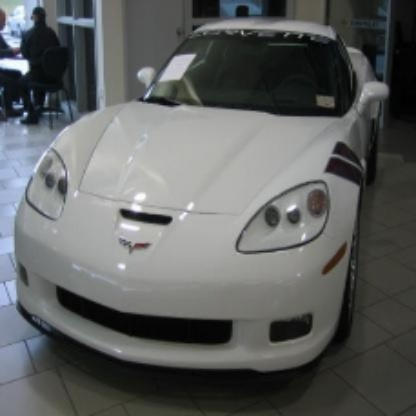Vehicle: (13, 13, 392, 392)
